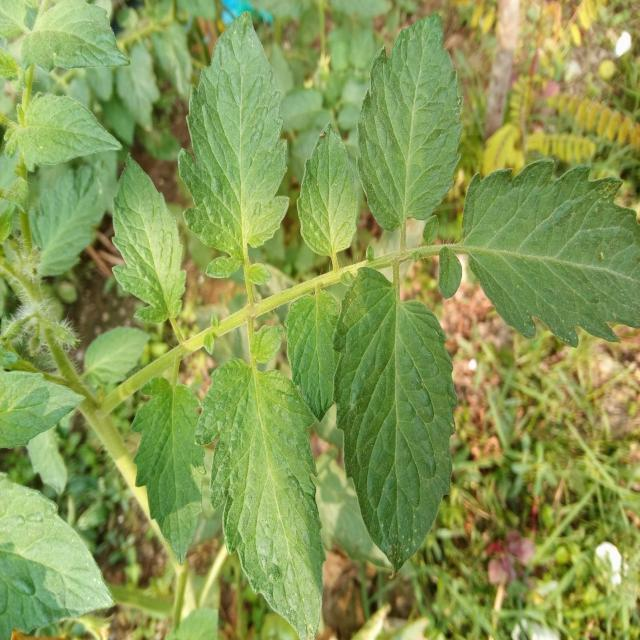Healthy: (190, 353, 331, 640), (333, 267, 458, 571), (455, 160, 640, 346), (164, 11, 297, 265), (357, 15, 461, 230), (0, 473, 112, 639), (128, 374, 212, 566), (0, 74, 121, 186), (112, 157, 186, 323), (287, 121, 367, 273), (281, 289, 339, 420), (21, 0, 128, 71)
